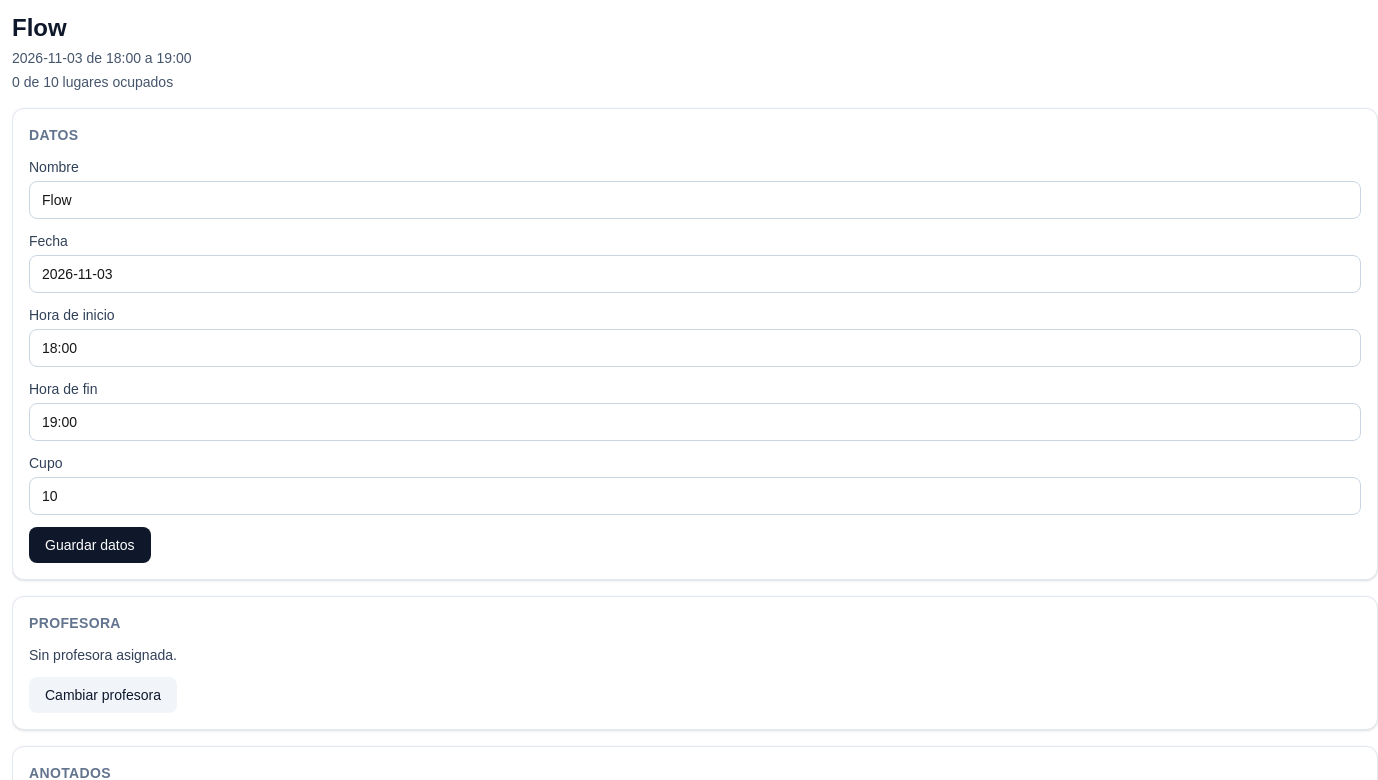
Test: el bloque de datos › una hora de fin anterior a la de inicio no se manda
This screenshot has width=1378, height=780.
Replace the text in the field labelled "Hora de fin" with "17:00" at [695, 422], box x1=29 y1=403 x2=1361 y2=441
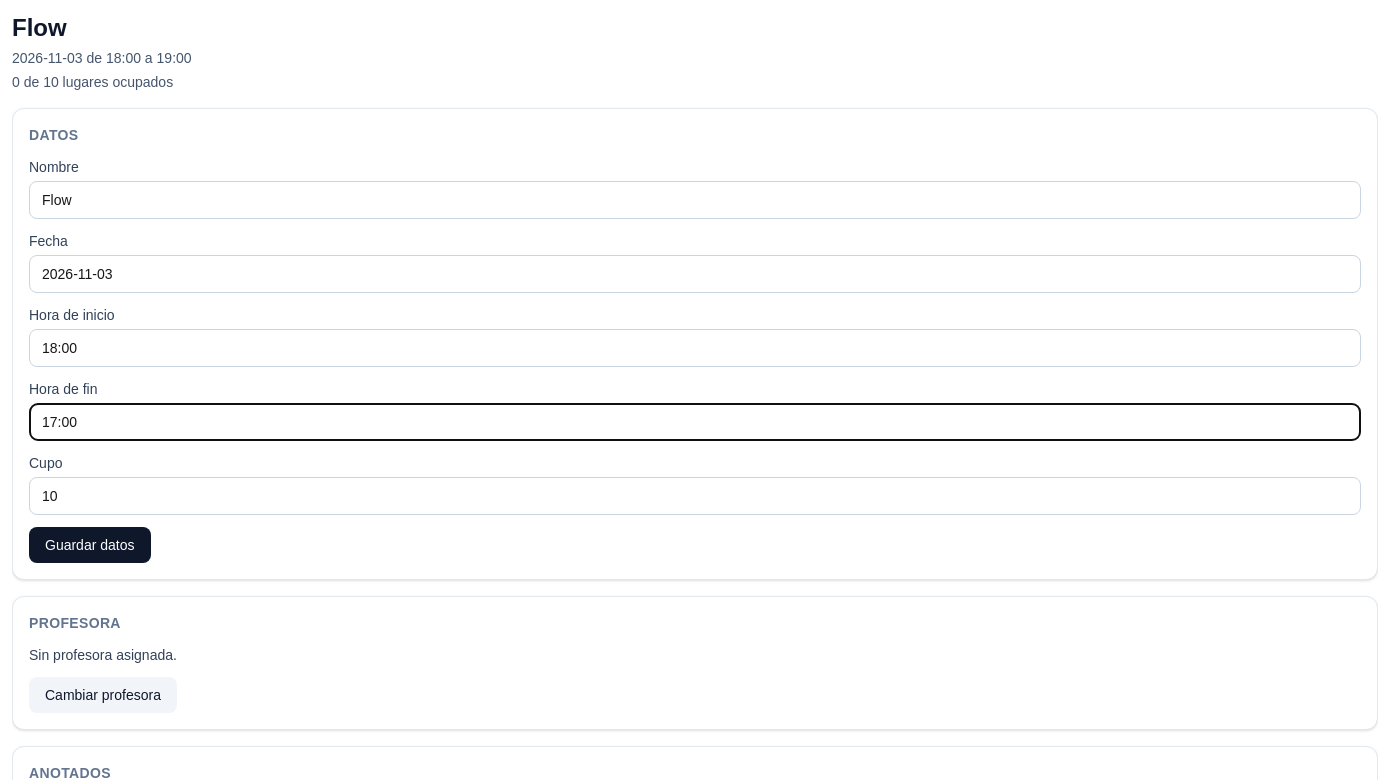
Click the button "Guardar datos" at [90, 545], box x1=29 y1=527 x2=150 y2=563
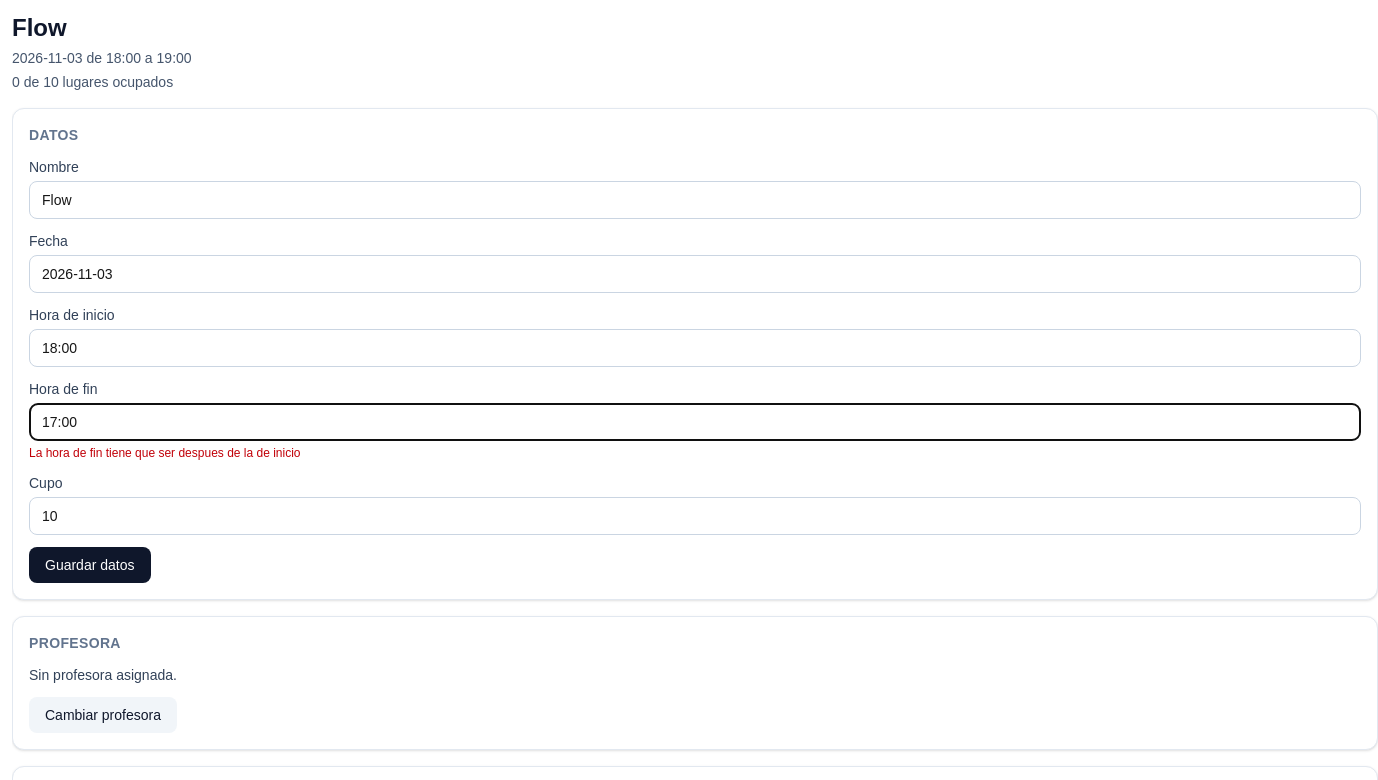
Check: the text "La hora de fin tiene que ser despues de la de inicio" is shown, box x1=29 y1=446 x2=300 y2=460
